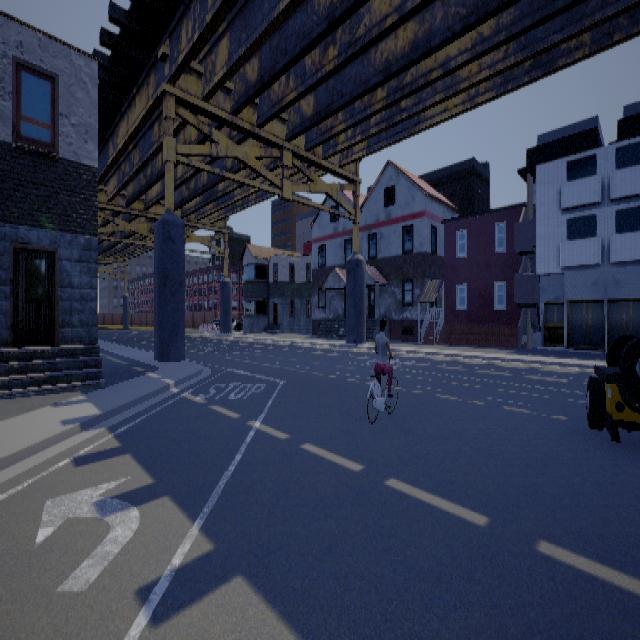bike: (366, 322, 403, 422)
vehicle: (585, 332, 639, 441)
